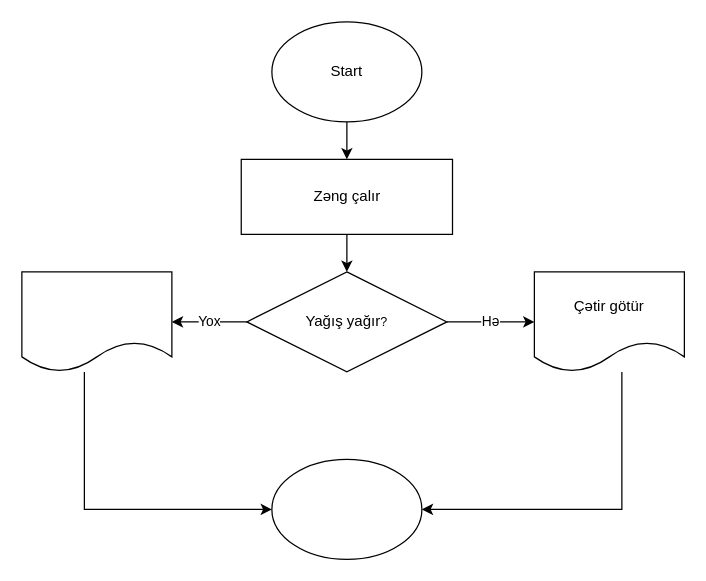
The diagram is 706 pixels wide and 581 high, and some of its shapes have lost their labels. Here are the shapes that lost their labels. From the top down, the centre of each, then its label:
[96,321]: Birbaşa çıx
[346,508]: Finish
